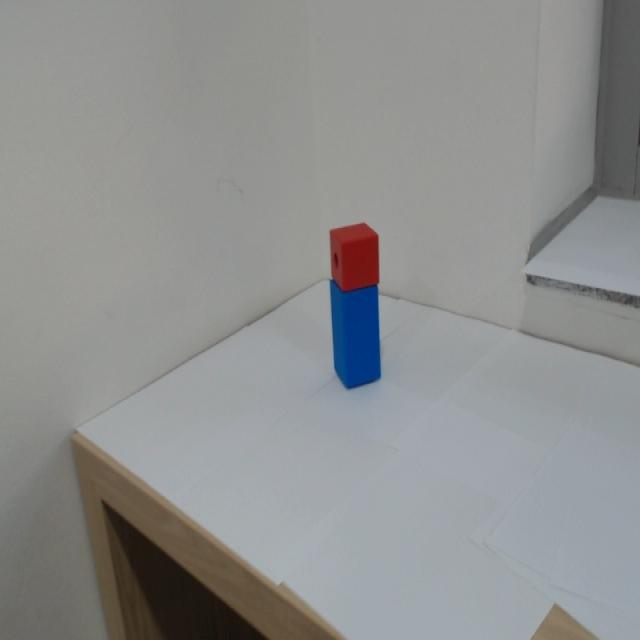cube: (325, 219, 395, 290)
